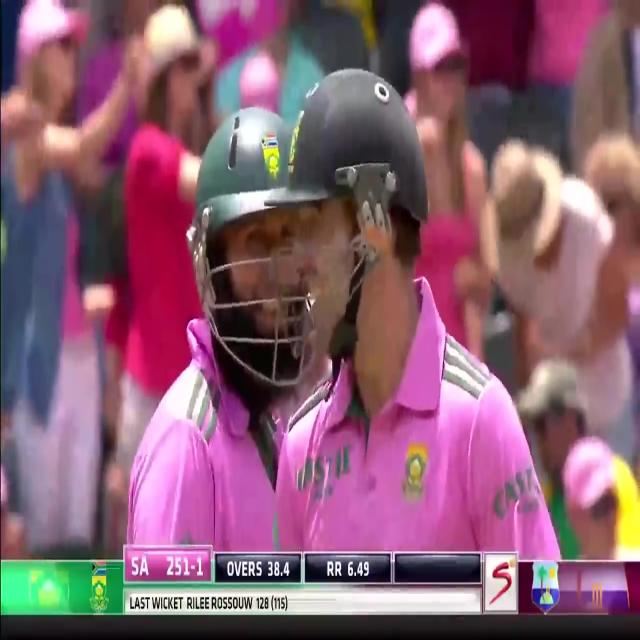Ball: (254, 74, 551, 554)
